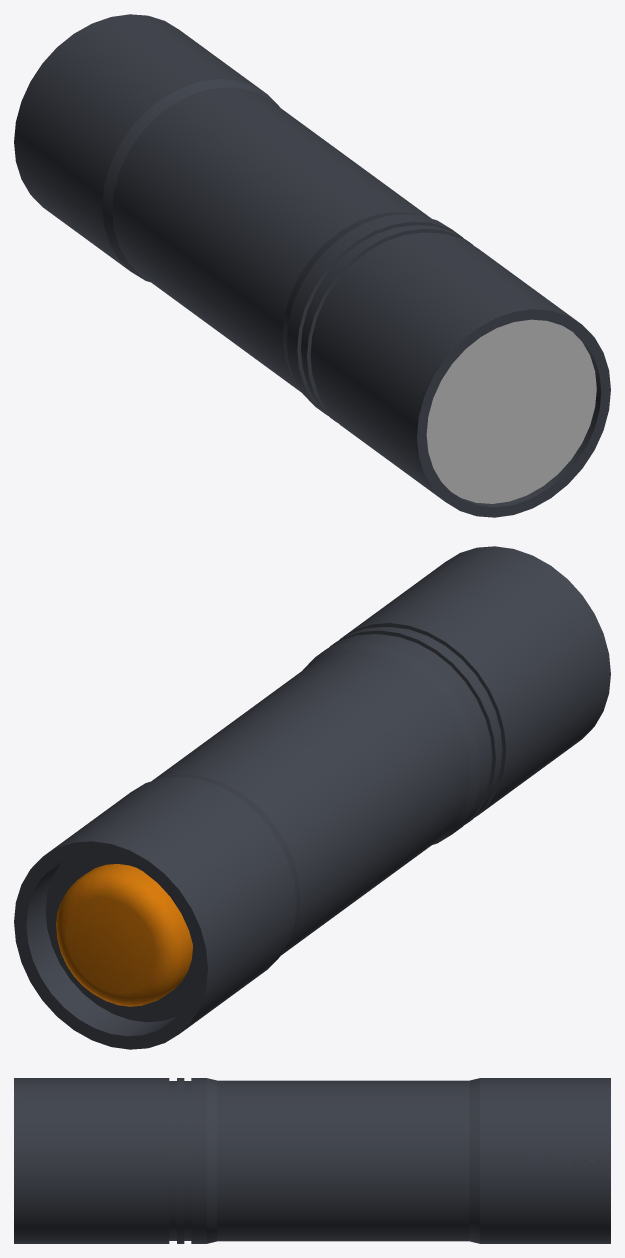
File: uv-flashlight.glb
3 views of the same model, one above another, from view 1: azimuth 30°, elevation 25°; view 2: azimuth 150°, elevation 25°; view 3: azimuth 270°, elevation 25° (orthographic). The views are drawn at different scales.
Parts seen in each view (by area): view 1: StarterUV; view 2: StarterUV; view 3: StarterUV.
Boxes of the visible parts, box(x1,y1,x2,y2) form: StarterUV: box(14, 14, 610, 517); StarterUV: box(14, 546, 610, 1049); StarterUV: box(14, 1078, 610, 1243).
Bounding box in the file's own units: 4.15 × 4.15 × 14.93.
1 material, 1 textured.
